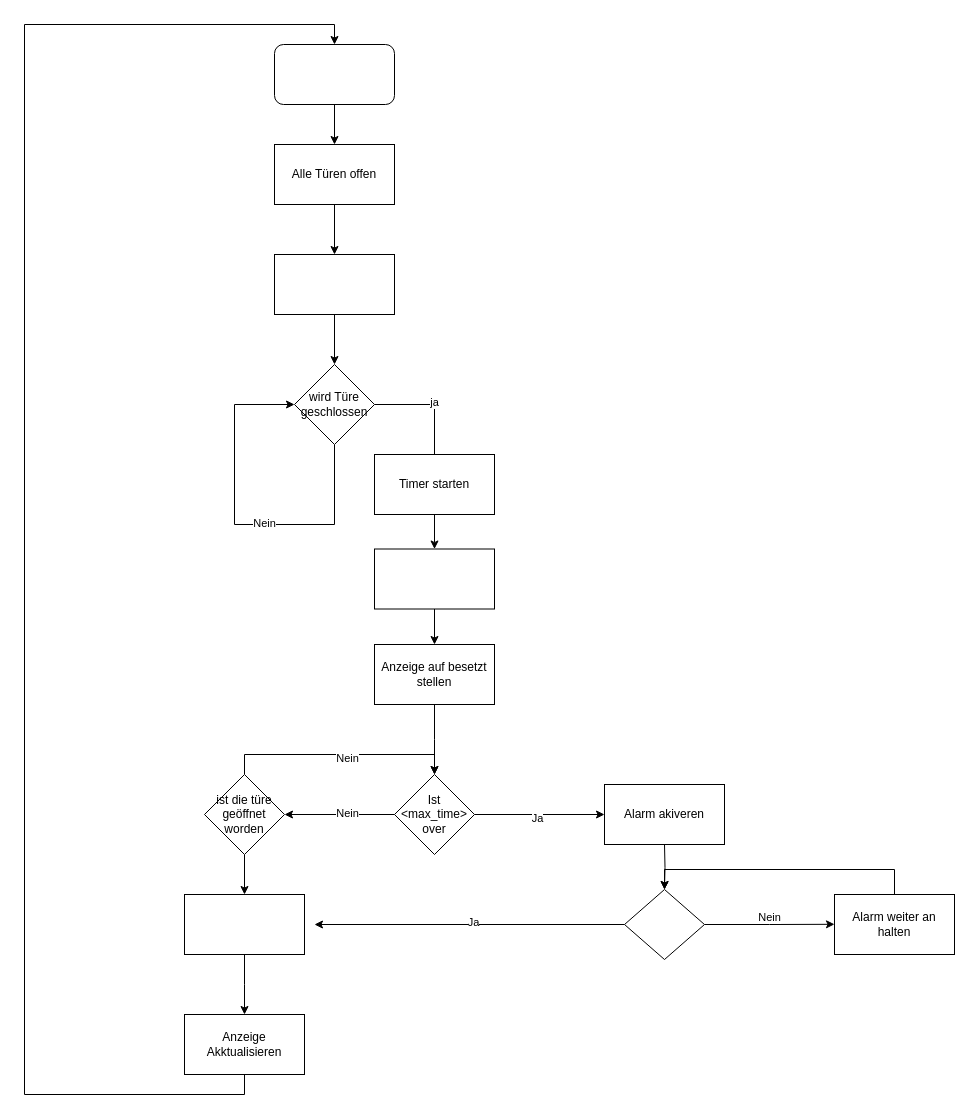
Image size: 972x1120. Some labels were removed from this diagram. Here are the shapes that lost their labels. From the top down, the centre of each, then its label:
point (334, 74): start
point (334, 284): Alles ist Leer
point (434, 578): Display anzeigen
point (244, 924): TImer resetten
point (664, 924): ISt die Türe Offen
